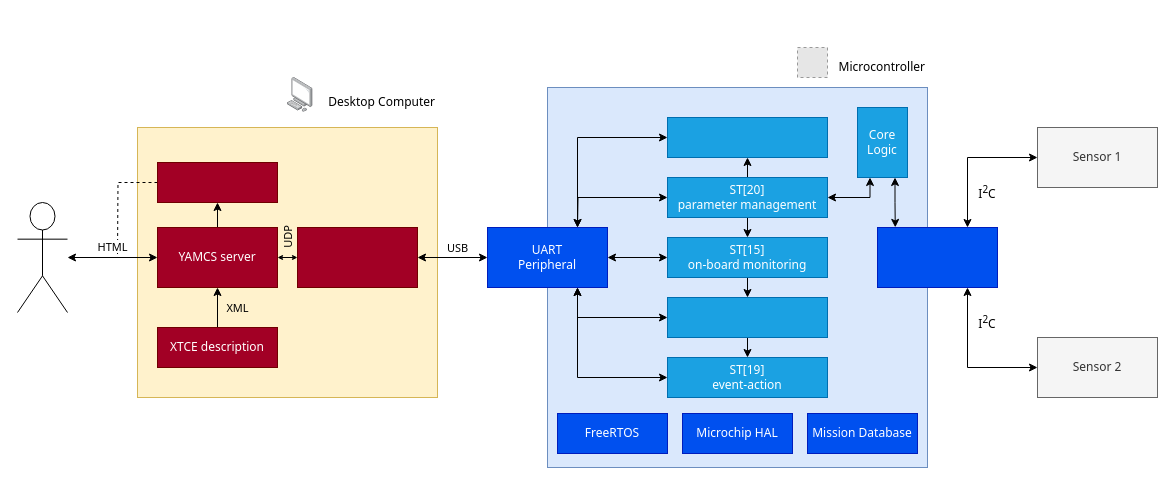
Some shapes in this 1175 by 485 pixel diagram are drawn without their labels. Grey dashed boxes stand in for pictures. The shapes that lost their labels are listed below. From the top down, each one's centre as x and y in pixels, then its label:
At (747,137): "ST[03] housekeeping".
At (217,182): "ECSS Database Viewer".
At (42,257): "User".
At (357,257): "link.cpp".
At (937,257): "Device Drivers".
At (747,317): "ST[04] event reporting".
